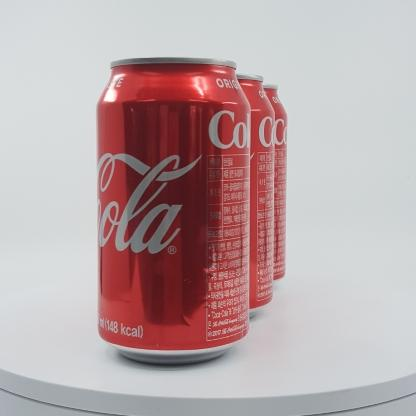---------350ML: (95, 57, 251, 365)
